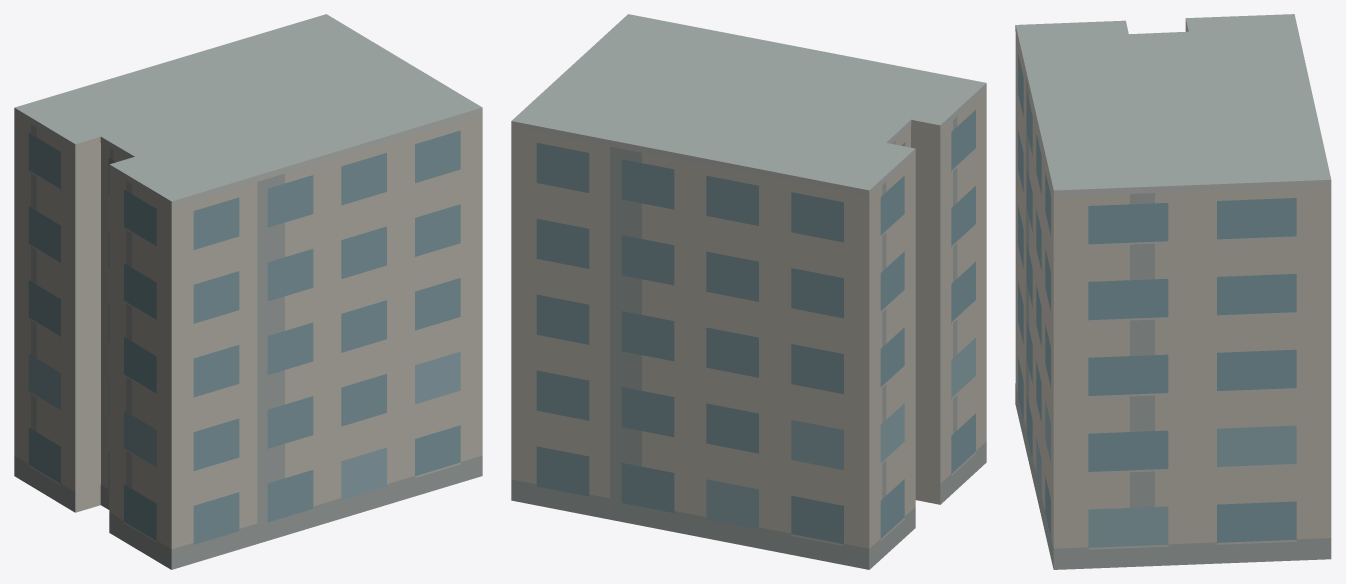
The model's file is survey-upis-33007290.glb.
3 views of the same model, side by side, from view 1: azimuth 30°, elevation 25°; view 2: azimuth 150°, elevation 25°; view 3: azimuth 270°, elevation 25° (orthographic). The views are drawn at different scales.
Parts seen in each view (by area): view 1: survey-upis-33007290.tmp; view 2: survey-upis-33007290.tmp; view 3: survey-upis-33007290.tmp.
Part boxes in pixels (box(x1,y1,x2,y2)): survey-upis-33007290.tmp: box(14, 14, 482, 569); survey-upis-33007290.tmp: box(511, 14, 986, 569); survey-upis-33007290.tmp: box(1015, 14, 1331, 569).
Size of the model in its own units: 14.28 by 14.3 by 10.8.
